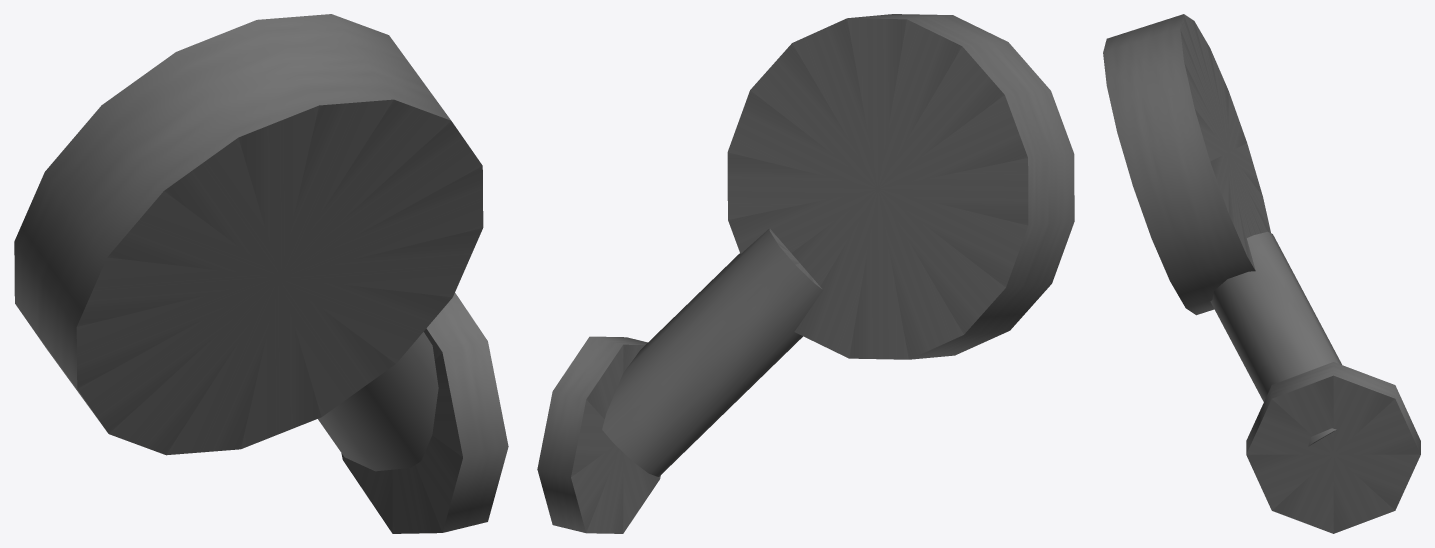
Rendered from mastarmcurve_4x1_c1_east.obj.
3 renders of one model, left to right at view 1: azimuth 30°, elevation 25°; view 2: azimuth 150°, elevation 25°; view 3: azimuth 270°, elevation 25°, orthographic. The views are drawn at different scales.
Parts seen in each view (by area): view 1: mastarm_4x1_c1_east; view 2: mastarm_4x1_c1_east; view 3: mastarm_4x1_c1_east.
Boxes of the visible parts, x1,y1,x2,y2 form: mastarm_4x1_c1_east: (14, 14, 508, 533); mastarm_4x1_c1_east: (537, 14, 1074, 533); mastarm_4x1_c1_east: (1103, 14, 1420, 533).
Size of the model in its own units: 0.8401 by 1.04 by 0.7277.
